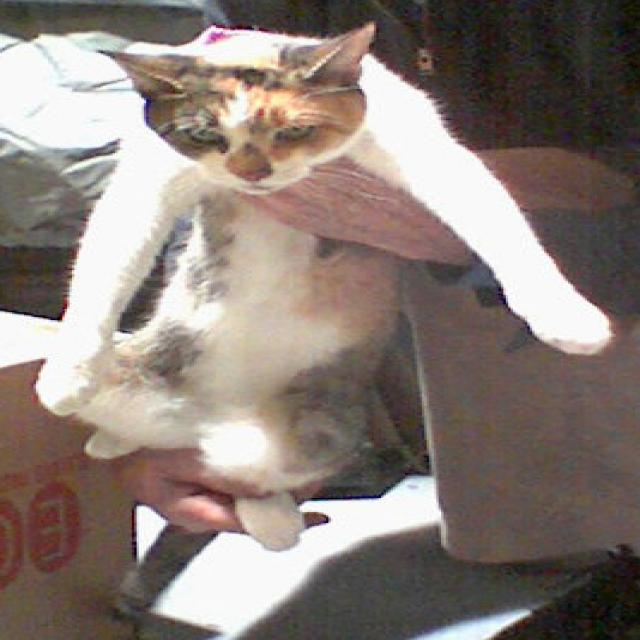Cats: (36, 21, 614, 497)
